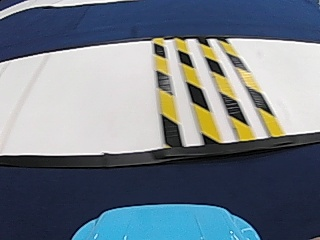bump: (147, 45, 281, 134)
